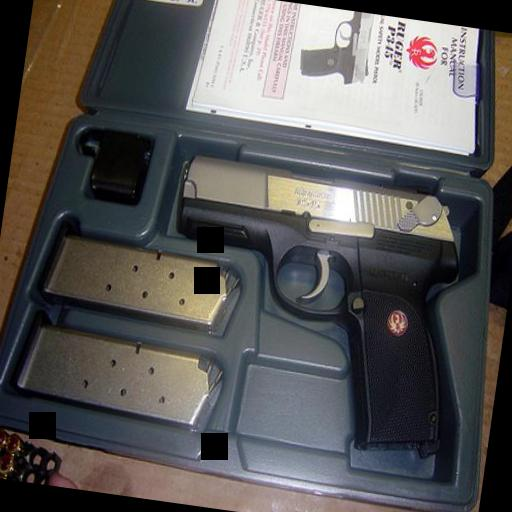Handgun: (149, 146, 477, 462)
